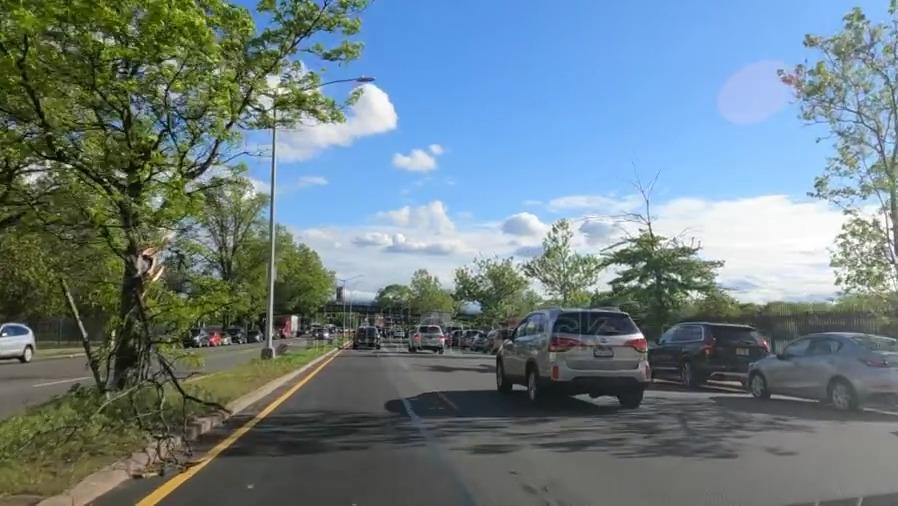car: (489, 311, 649, 401), (770, 330, 898, 414), (651, 318, 761, 382), (412, 325, 446, 355), (357, 322, 380, 354)
